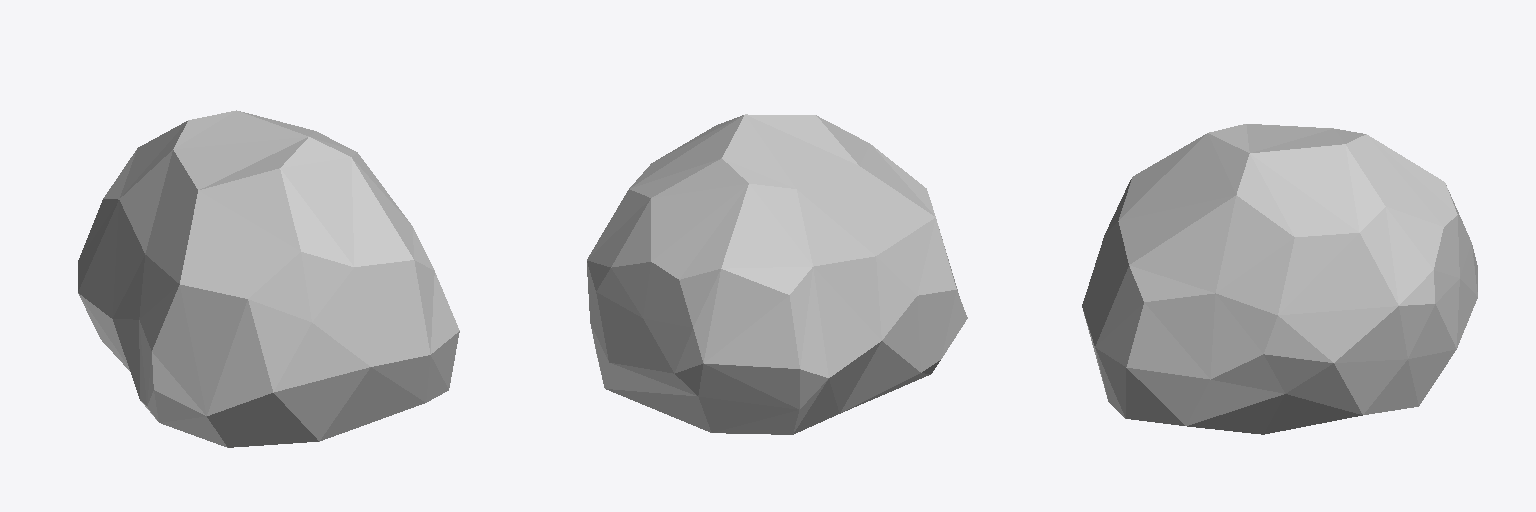
File: rock.obj
3 views of the same model, side by side, from view 1: azimuth 30°, elevation 25°; view 2: azimuth 150°, elevation 25°; view 3: azimuth 270°, elevation 25° (orthographic).
Visible parts, largest first — view 1: initialShadingGroup Mesh; view 2: initialShadingGroup Mesh; view 3: initialShadingGroup Mesh.
Part boxes in pixels (bbox=[...]): initialShadingGroup Mesh: bbox=[78, 110, 459, 447]; initialShadingGroup Mesh: bbox=[587, 114, 967, 434]; initialShadingGroup Mesh: bbox=[1082, 124, 1477, 434].
Bounding box in the file's own units: 2.17 × 1.67 × 2.47.